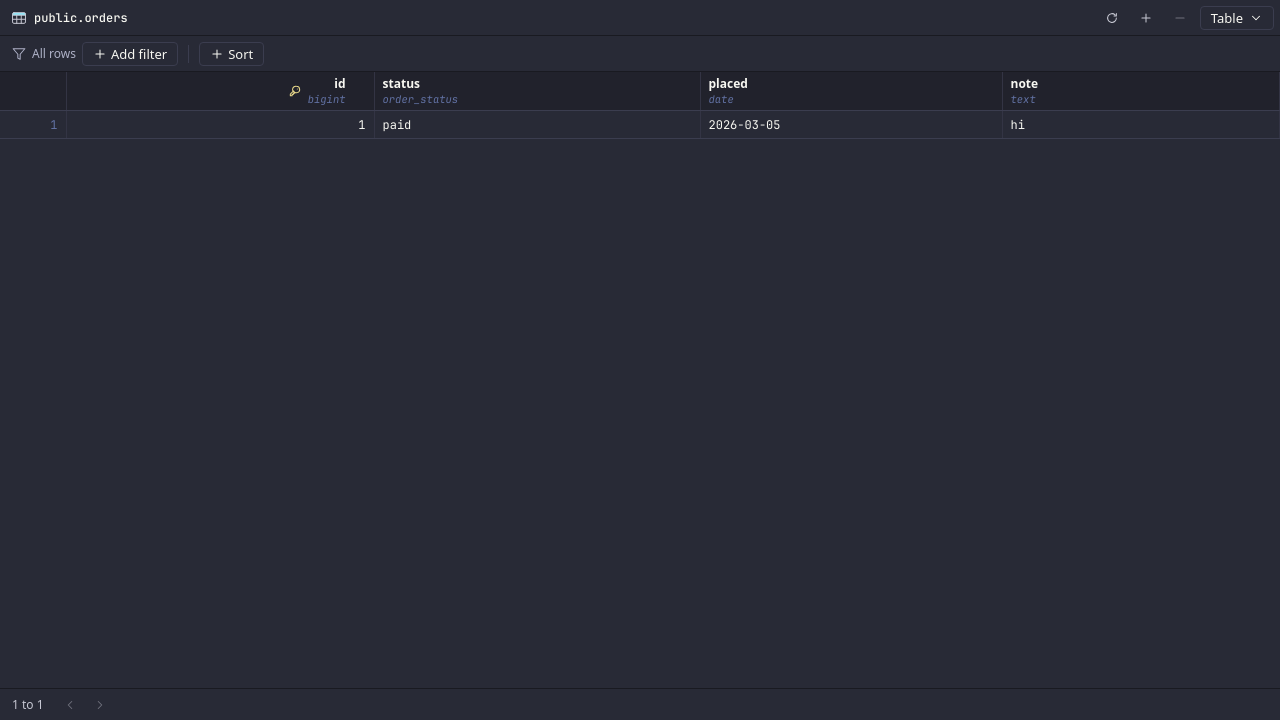
Test: a date column gets the calendar; typing a full value still commits it unchanged
The width and height of the screenshot is (1280, 720).
Expected: the text "paid" is shown, [382,116,411,132]
Double-click the cell "2026-03-05" at (851, 124), box [700,110,1002,138]
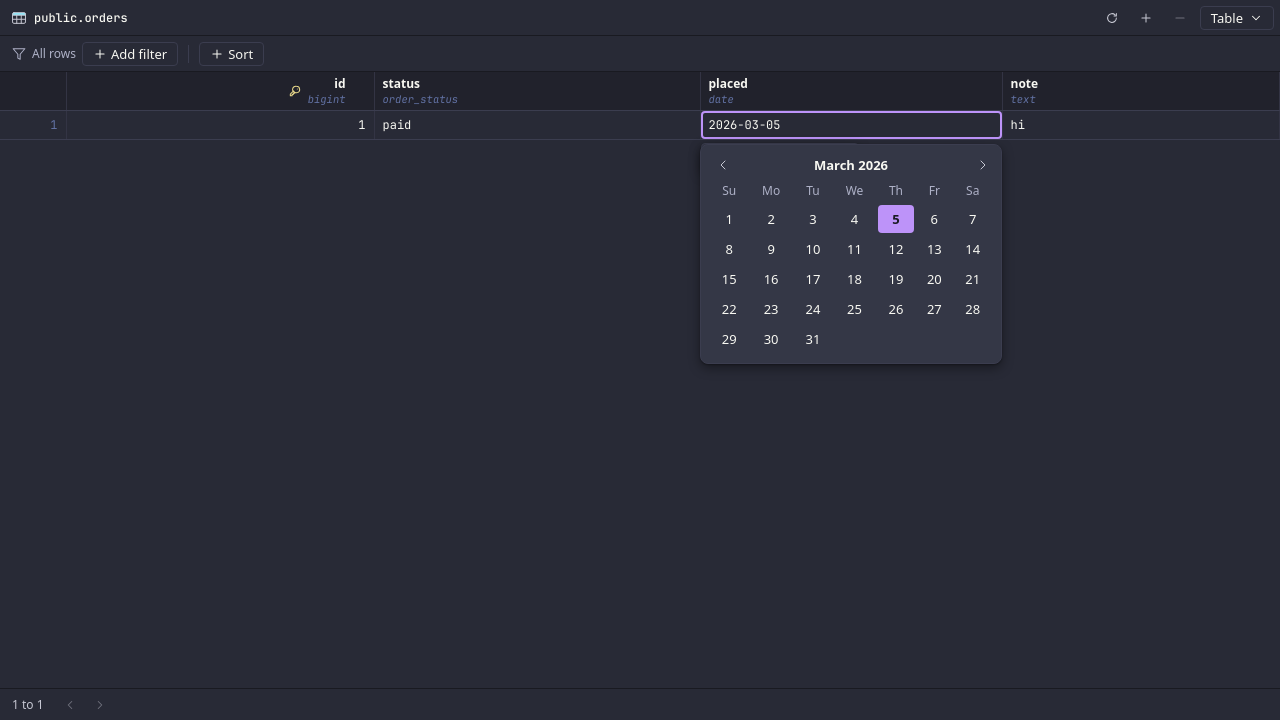
Expected: the dialog named "Pick a date for placed" is shown, [700,144,1002,364]
Expected: the table named "March 2026" is shown, [709,176,993,354]
Replace the text in the text box named "Cell value" with "2026-04-01" at (851, 125), box [700,111,1002,139]
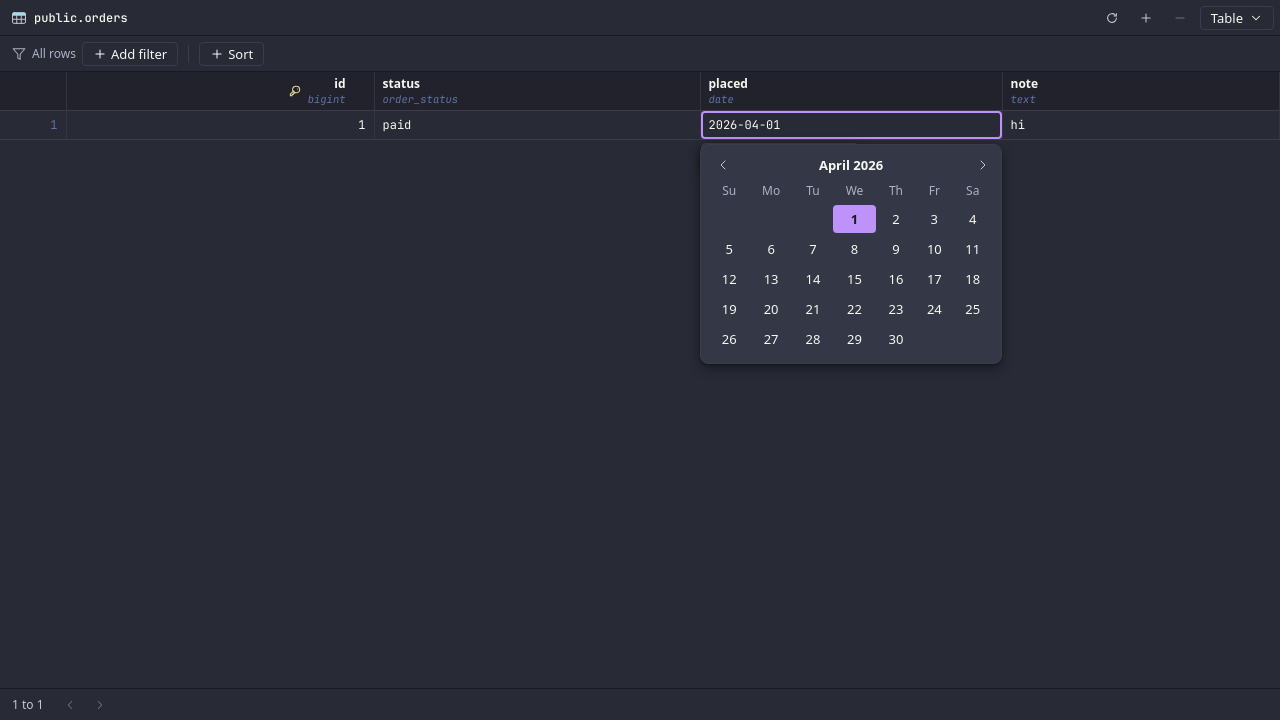
Press Enter in the text box named "Cell value", box [700,111,1002,139]
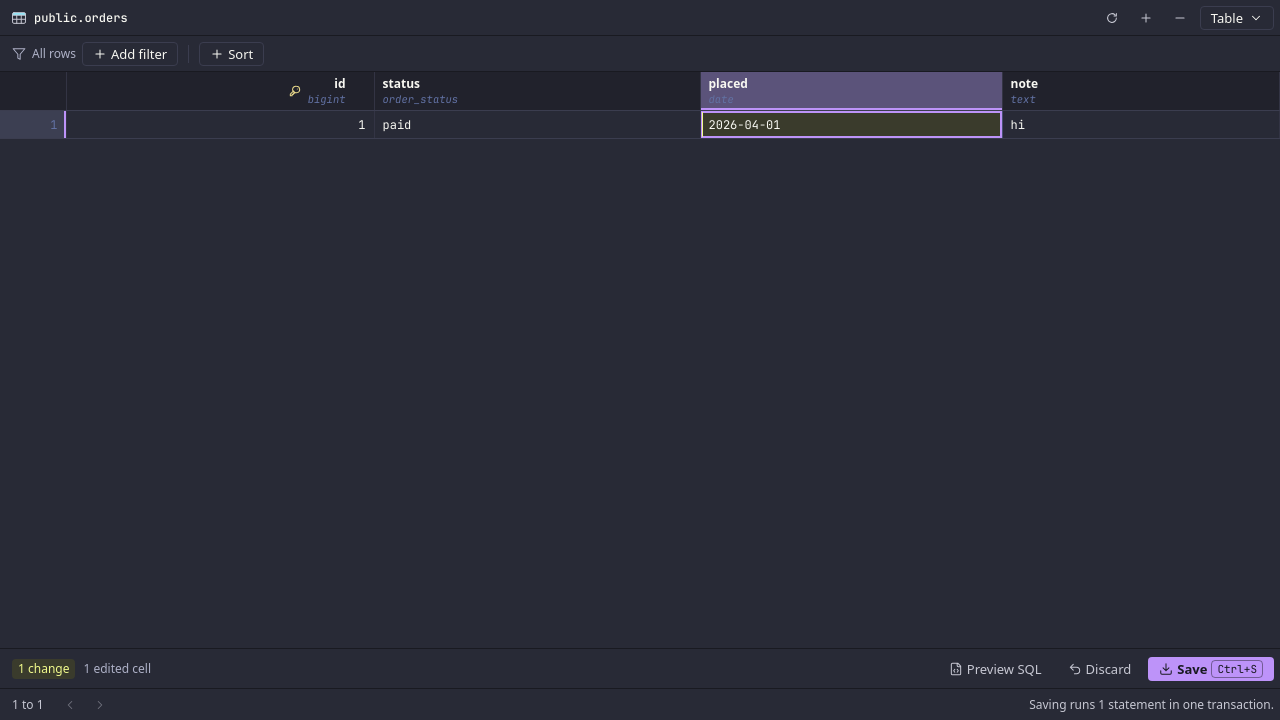
Expected: the cell "2026-04-01" is shown, [700,110,1002,138]
Expected: the dialog is gone
